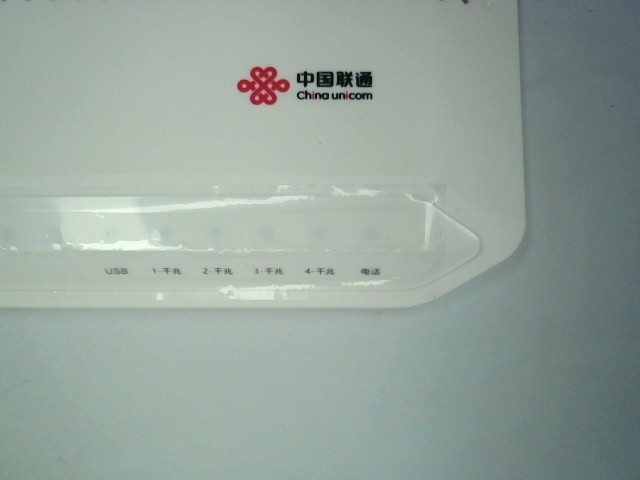AD_ChinaUnicom: (225, 55, 393, 116)
